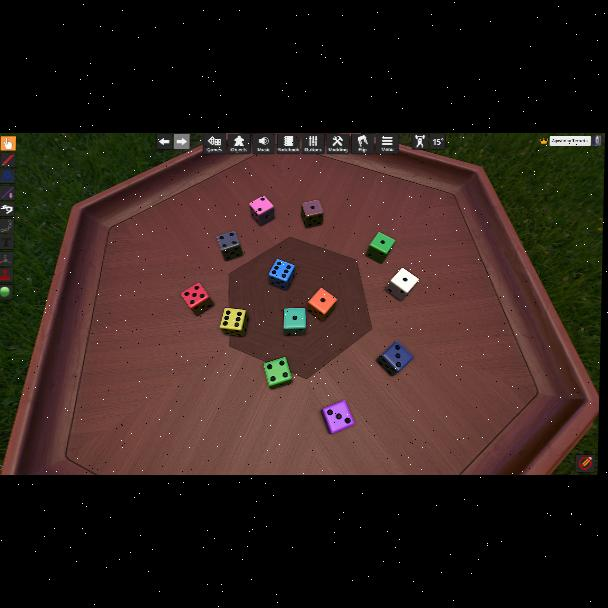d6: (376, 341, 412, 377), (385, 268, 418, 302), (319, 400, 351, 433), (181, 282, 212, 316), (305, 289, 335, 322), (263, 358, 293, 390), (218, 308, 247, 338), (366, 232, 393, 264), (216, 230, 243, 262), (268, 260, 296, 290), (248, 195, 274, 227), (302, 200, 325, 228), (283, 308, 305, 335)
